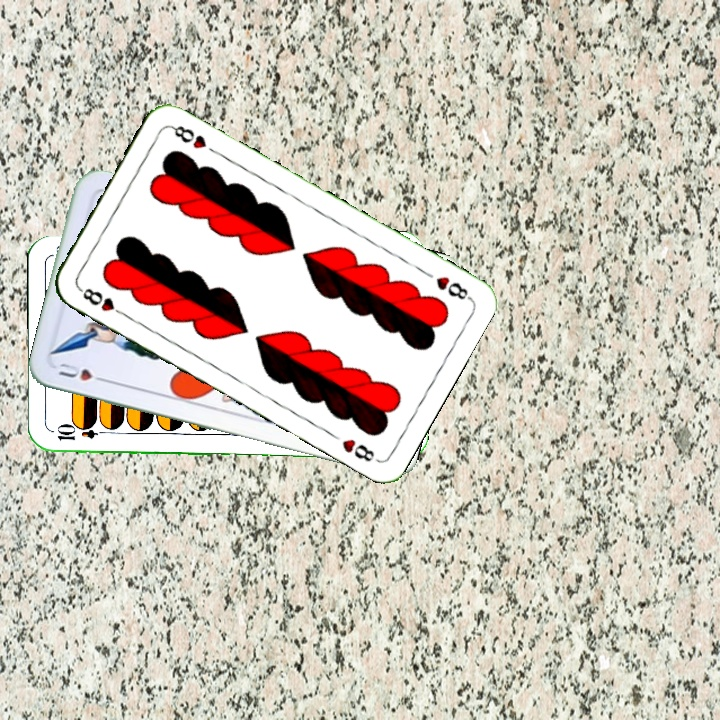E10: (53, 425, 112, 443)
H8: (75, 283, 129, 319), (432, 272, 473, 303)
HU: (54, 359, 111, 386)
